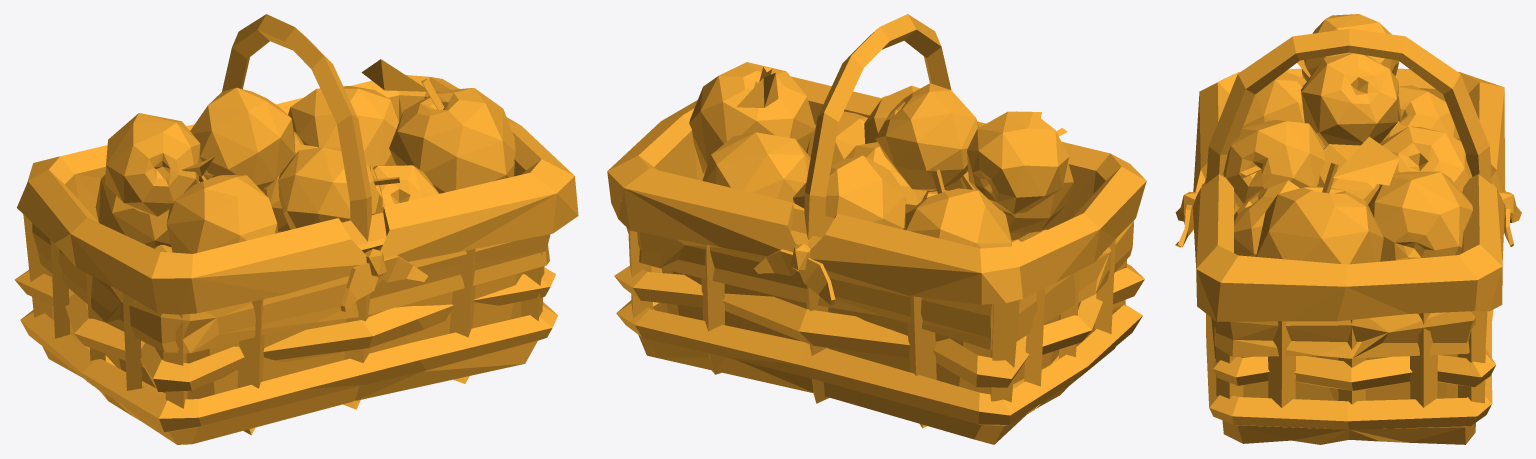
Rendered from SM_Basket_Apples_Green_Fantasy_A_Cloth.fbx.
3 renders of one model, left to right at view 1: azimuth 30°, elevation 25°; view 2: azimuth 150°, elevation 25°; view 3: azimuth 270°, elevation 25°, orthographic. The views are drawn at different scales.
Parts seen in each view (by area): view 1: basket-apples-green-fantasy-a-cloth; view 2: basket-apples-green-fantasy-a-cloth; view 3: basket-apples-green-fantasy-a-cloth.
Part boxes in pixels (x1,y1,x2,y2): basket-apples-green-fantasy-a-cloth: [14, 14, 578, 444]; basket-apples-green-fantasy-a-cloth: [607, 14, 1146, 444]; basket-apples-green-fantasy-a-cloth: [1175, 14, 1521, 444].
Bounding box in the file's own units: 0.5662 × 0.4076 × 0.3841.
